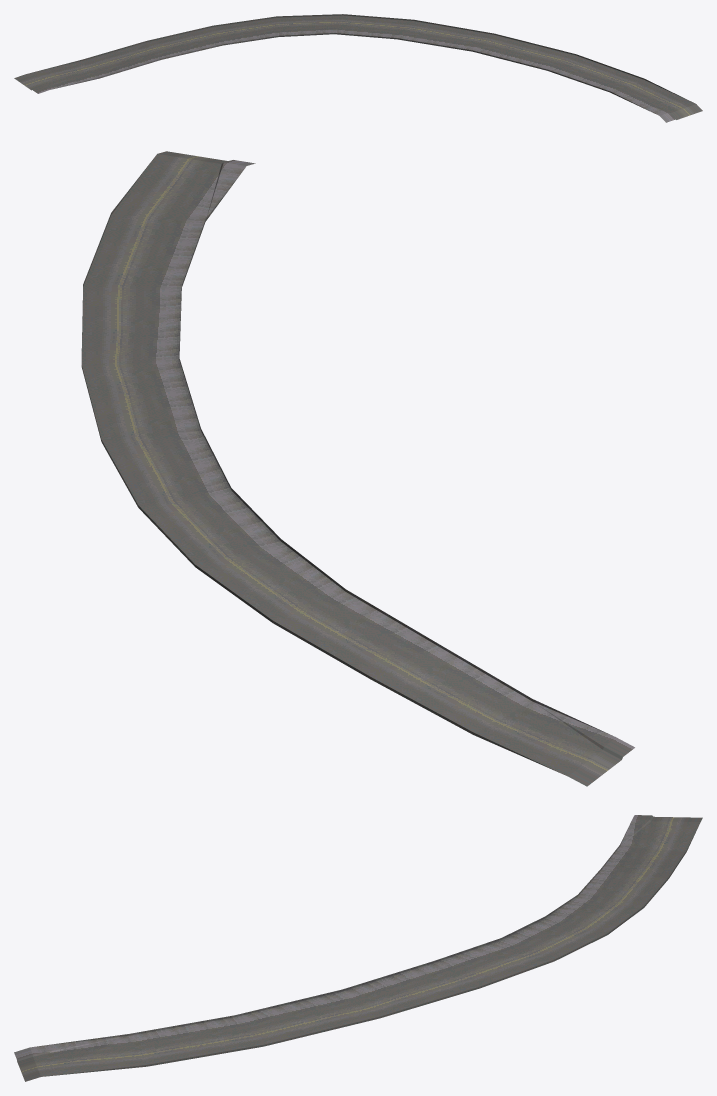
The model's file is lod_hway_sfn03.obj.
3 views of the same model, one above another, from view 1: azimuth 30°, elevation 25°; view 2: azimuth 150°, elevation 25°; view 3: azimuth 270°, elevation 25° (orthographic). The views are drawn at different scales.
Parts seen in each view (by area): view 1: lod_hway_SFN03; view 2: lod_hway_SFN03; view 3: lod_hway_SFN03.
Part boxes in pixels (left/top/right/bottom): lod_hway_SFN03: left=14, top=14, right=702, bottom=122; lod_hway_SFN03: left=81, top=151, right=634, bottom=786; lod_hway_SFN03: left=14, top=815, right=702, bottom=1081.
Bounding box in the file's own units: 181 × 15.54 × 170.
1 material, 1 textured.
